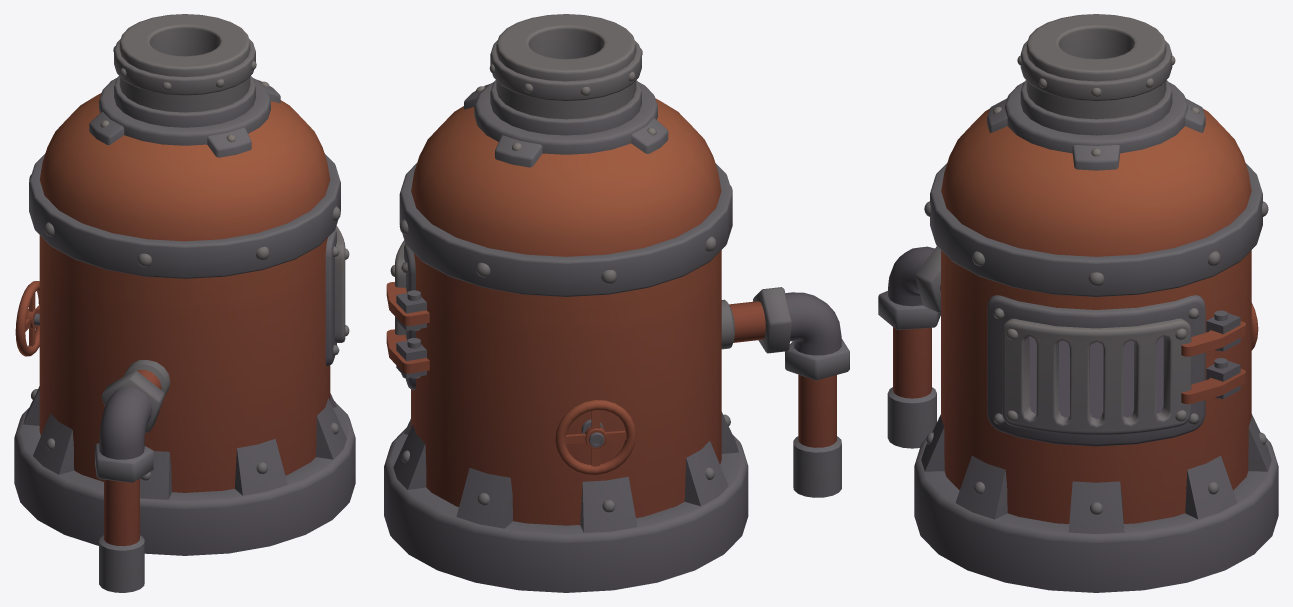
Rendered from gizmo_furnace1b.fbx.
3 renders of one model, left to right at view 1: azimuth 30°, elevation 25°; view 2: azimuth 150°, elevation 25°; view 3: azimuth 270°, elevation 25°, orthographic. The views are drawn at different scales.
Visible parts, largest first — view 1: furnace_lvl1; view 2: furnace_lvl1; view 3: furnace_lvl1.
Part boxes in pixels (x1,y1,x2,y2): furnace_lvl1: (14, 14, 355, 592); furnace_lvl1: (384, 14, 849, 592); furnace_lvl1: (878, 14, 1278, 592).
Bounding box in the file's own units: 144 × 188 × 144.
